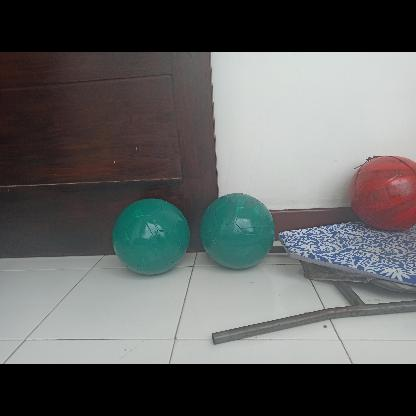green_ball: (109, 196, 189, 276), (198, 192, 276, 270)
